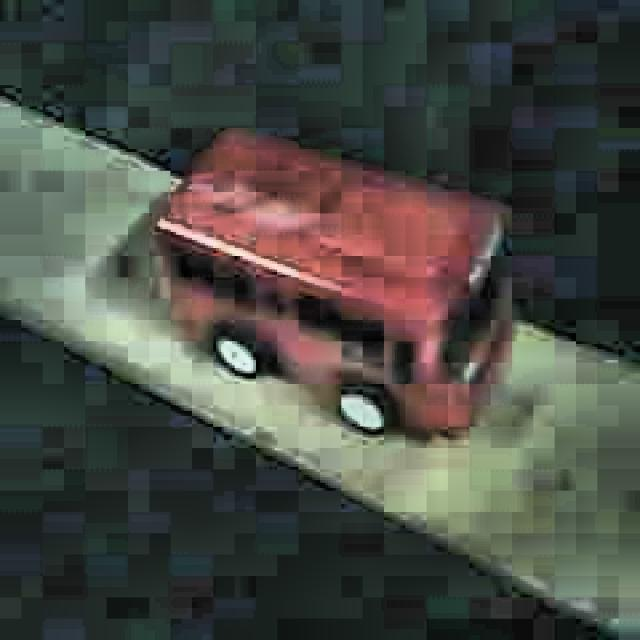bus: (152, 124, 514, 440)
